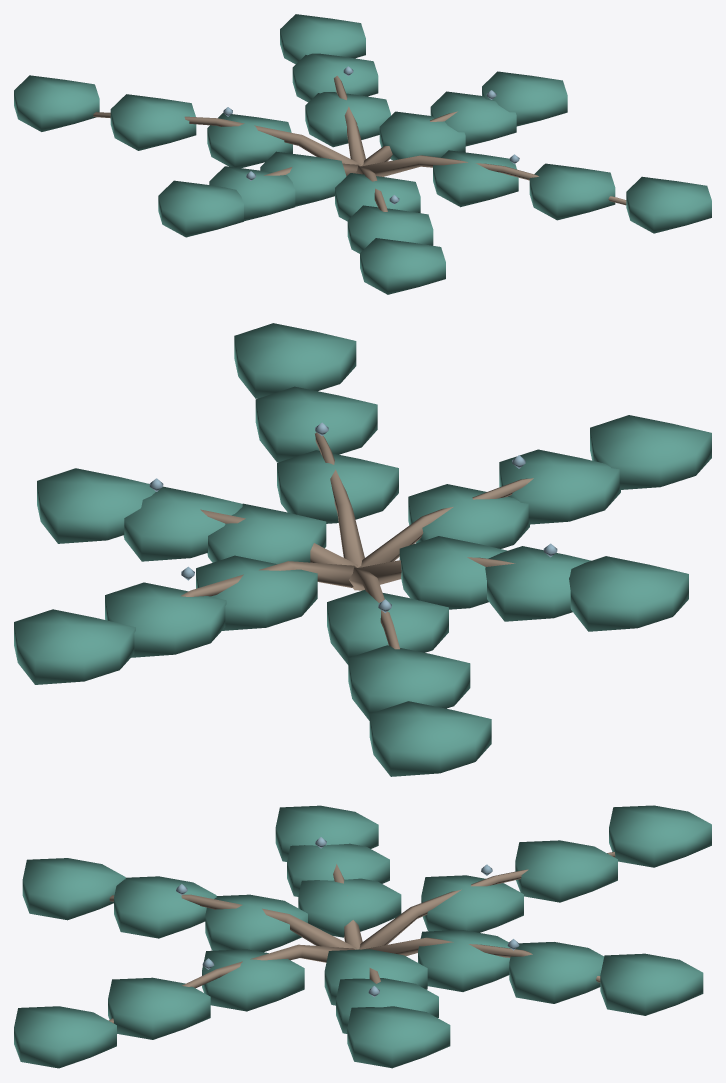
File: shrub_creeping_juniper.glb
3 renders of one model, top to bottom at view 1: azimuth 30°, elevation 25°; view 2: azimuth 150°, elevation 25°; view 3: azimuth 270°, elevation 25°, orthographic. The views are drawn at different scales.
Parts seen in each view (by area): view 1: Flora_Creeping_Juniper; view 2: Flora_Creeping_Juniper; view 3: Flora_Creeping_Juniper.
Part boxes in pixels (x1,y1,x2,y2): Flora_Creeping_Juniper: [14, 14, 711, 294]; Flora_Creeping_Juniper: [14, 323, 711, 776]; Flora_Creeping_Juniper: [14, 805, 711, 1068].
Size of the model in its own units: 1.95 by 0.2229 by 2.35.
